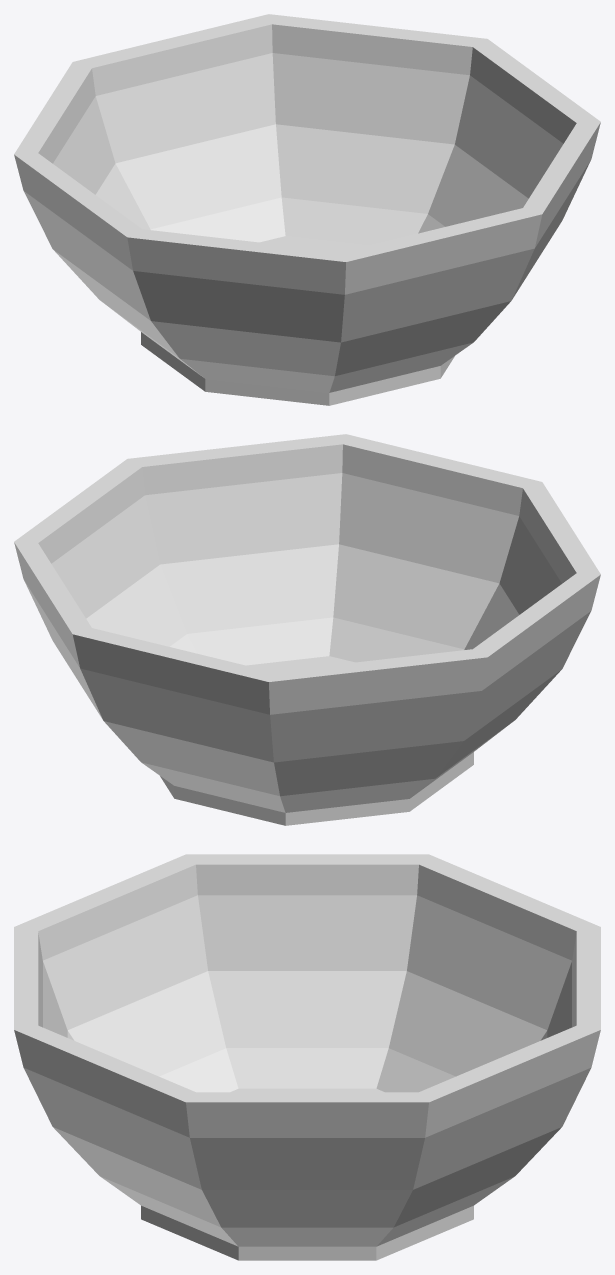
The model's file is SM_Food_Plate_02.fbx.
3 renders of one model, top to bottom at view 1: azimuth 30°, elevation 25°; view 2: azimuth 150°, elevation 25°; view 3: azimuth 270°, elevation 25°, orthographic. The views are drawn at different scales.
Parts seen in each view (by area): view 1: SM_Food_Plate_02; view 2: SM_Food_Plate_02; view 3: SM_Food_Plate_02.
Boxes of the visible parts, x1,y1,x2,y2 form: SM_Food_Plate_02: (14, 14, 600, 405); SM_Food_Plate_02: (14, 434, 600, 825); SM_Food_Plate_02: (14, 854, 600, 1260).
Size of the model in its own units: 0.3554 by 0.1415 by 0.3554.
